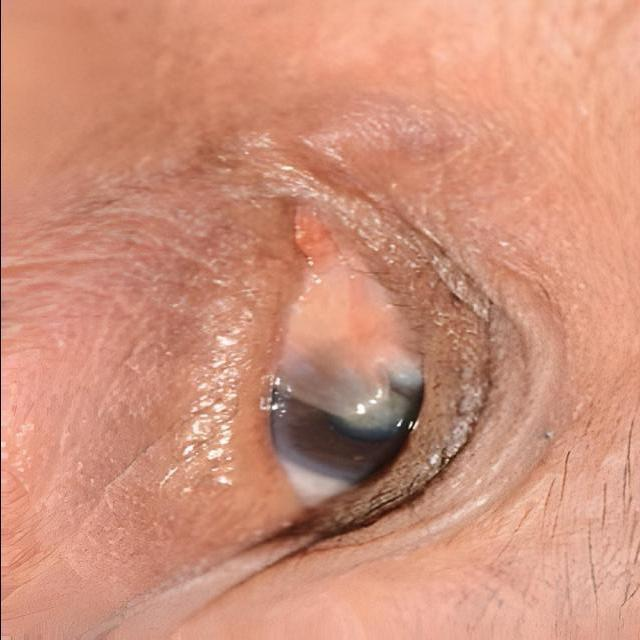Pterygium: (268, 226, 410, 432)
